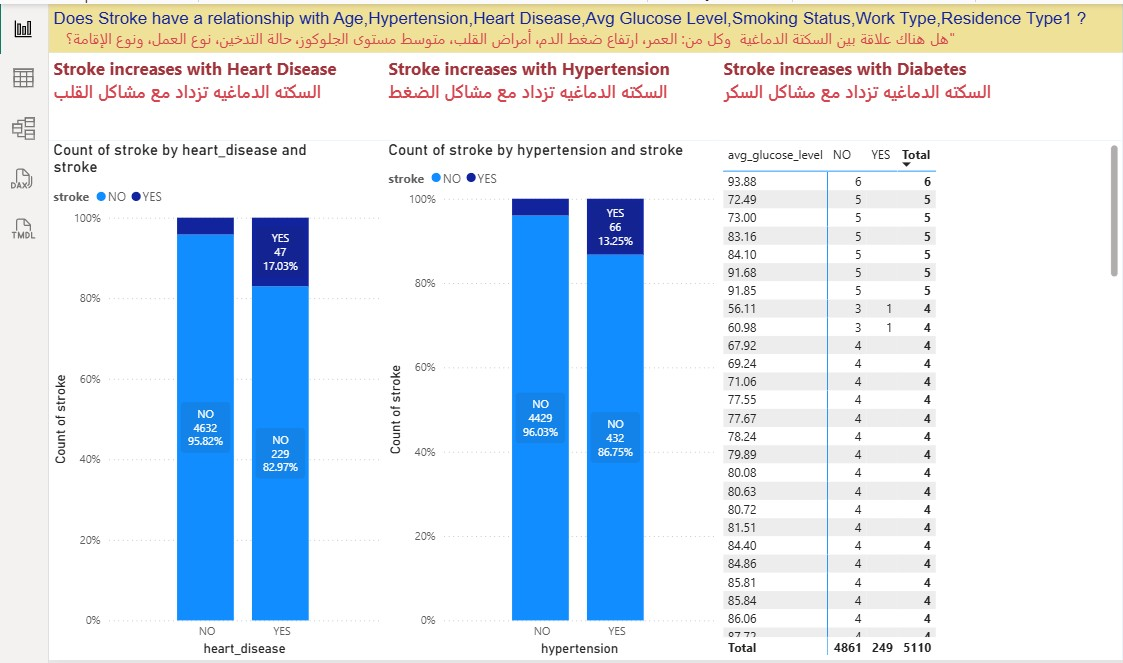

The dashboard page shown, as its layout file describes it:
{"tool":"powerbi","page":{"name":"Page 1","canvas":[1280,720],"ordinal":0},"visuals":[{"type":"textbox","box":[0,0,1178.7,53.5],"z":0},{"type":"hundredPercentStackedColumnChart","fields":{"Category":["heart_disease.heart_disease"],"Y":["CountNonNull(heart_disease.stroke)"],"Series":["heart_disease.stroke"]},"box":[0,149.6,367.8,570.8],"z":1000},{"type":"textbox","box":[0,53.5,367.8,96.1],"z":2000},{"type":"hundredPercentStackedColumnChart","fields":{"Y":["CountNonNull(heart_disease.stroke)"],"Series":["heart_disease.stroke"],"Category":["heart_disease.hypertension"]},"box":[367.8,149.6,367.8,570.8],"z":3000},{"type":"textbox","box":[367.8,53.5,367.8,96.1],"z":4000},{"type":"pivotTable","fields":{"Rows":["heart_disease.avg_glucose_level"],"Values":["CountNonNull(heart_disease.stroke)"],"Columns":["heart_disease.stroke"]},"box":[735.5,149.6,443.2,570.8],"z":5000},{"type":"textbox","box":[735.5,53.5,443.2,96.1],"z":6000}]}

Visuals, with their boxes on the page's 1280x720 design canvas (x1, y1, x2, y2). These are canvas units, not pixel positions in the 1123x663 screenshot, which may show the page scaled, cropped or inside an application window:
textbox: <region>0, 0, 1179, 54</region>
hundredPercentStackedColumnChart - heart_disease.heart_disease x CountNonNull(heart_disease.stroke): <region>0, 150, 368, 720</region>
textbox: <region>0, 54, 368, 150</region>
hundredPercentStackedColumnChart - CountNonNull(heart_disease.stroke) x heart_disease.stroke: <region>368, 150, 736, 720</region>
textbox: <region>368, 54, 736, 150</region>
pivotTable - heart_disease.avg_glucose_level x CountNonNull(heart_disease.stroke): <region>736, 150, 1179, 720</region>
textbox: <region>736, 54, 1179, 150</region>
